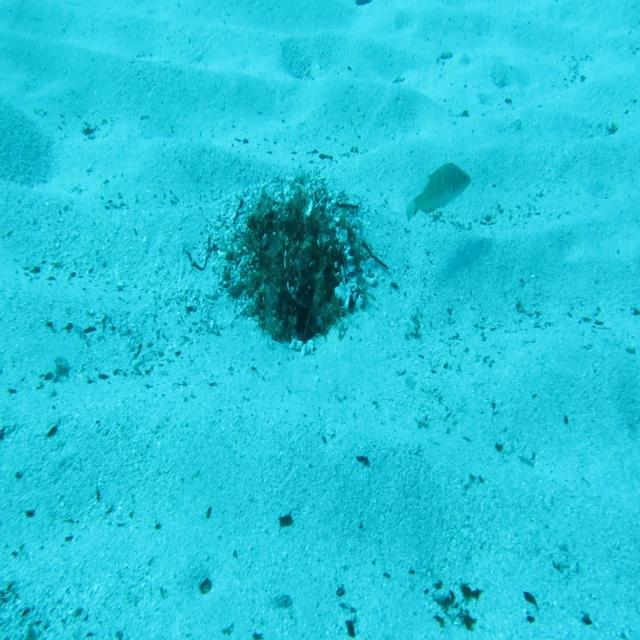SA: (404, 152, 474, 242)
nest: (221, 165, 386, 349)
